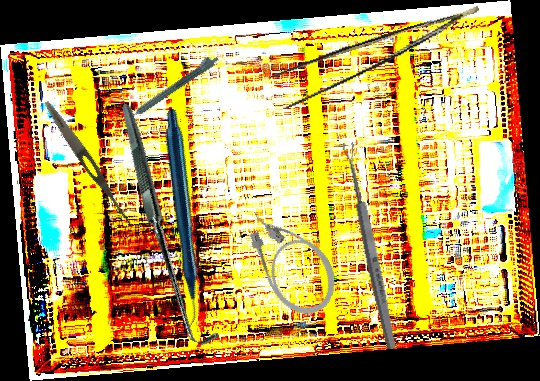Cannula: (235, 192, 348, 325)
Dressing Forceps: (40, 98, 138, 229)
Handpiece: (78, 107, 281, 331), (120, 51, 221, 124)
Hook Surgical: (47, 103, 290, 350)
Surgical Spoon: (341, 141, 399, 351)
Tissue Forceps: (261, 5, 491, 113)
